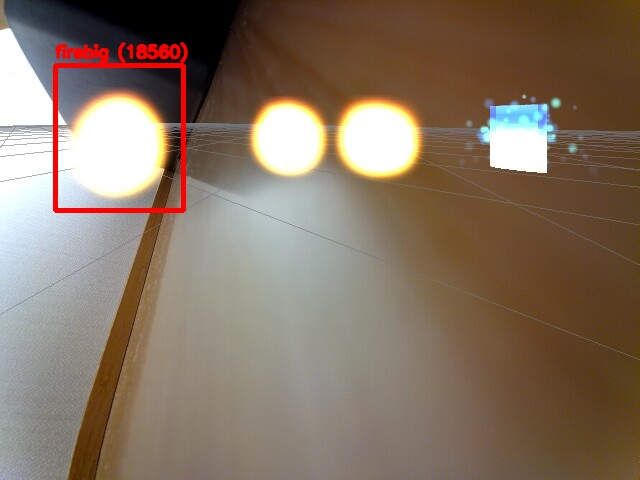firebig: (55, 65, 183, 210)
